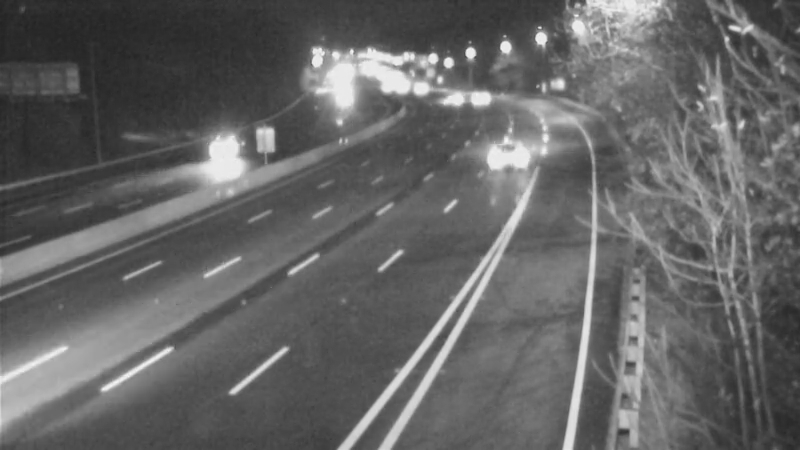vehicle: (457, 117, 537, 197), (386, 55, 436, 105), (453, 71, 503, 121), (427, 75, 477, 125), (193, 119, 243, 169)
